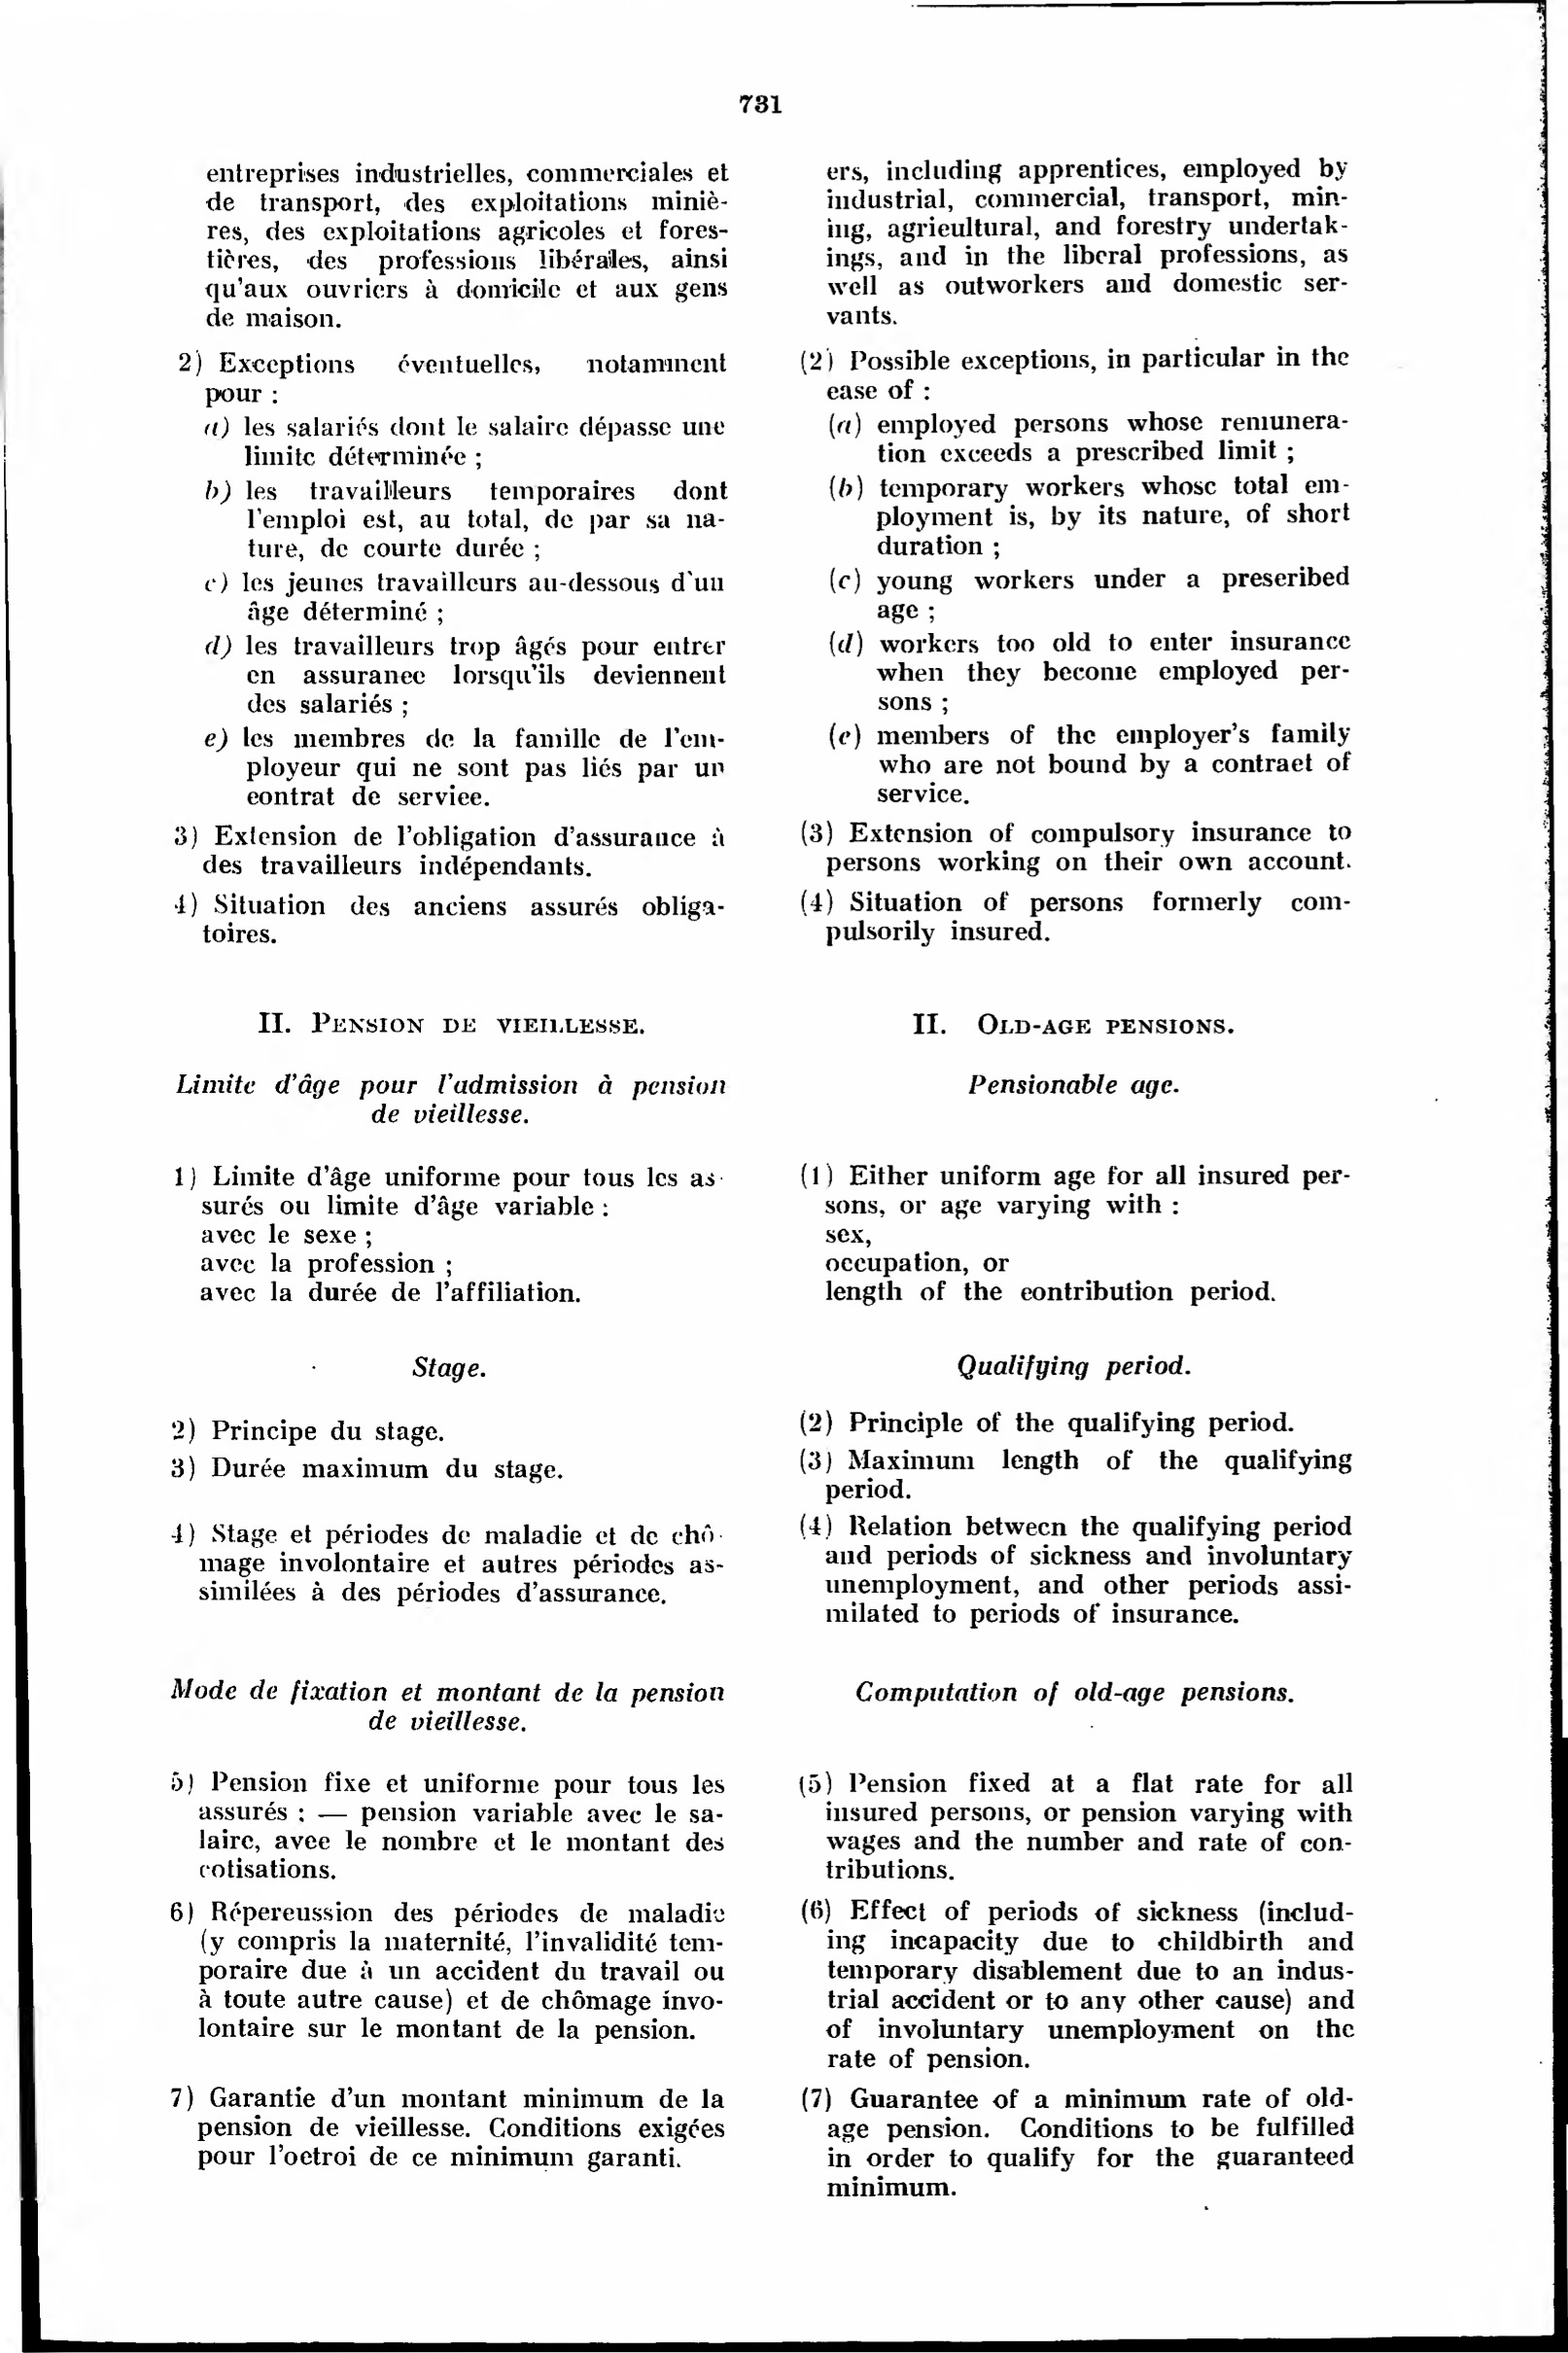MainZone-Continued: (808, 152, 1354, 334), (192, 155, 738, 336)
MainZone-Head: (160, 1668, 736, 1746), (167, 1064, 739, 1136), (842, 1664, 1303, 1719), (246, 997, 660, 1049), (896, 996, 1246, 1052), (948, 1341, 1201, 1391), (957, 1063, 1186, 1107), (403, 1342, 495, 1387)
MainZone-ListItem: (786, 1889, 1363, 2077), (786, 1151, 1354, 1316), (158, 1891, 739, 2048), (163, 1156, 736, 1308), (785, 1508, 1365, 1638), (791, 2079, 1365, 2209), (786, 1762, 1363, 1888), (158, 1763, 737, 1886), (158, 2076, 739, 2185), (160, 1512, 735, 1617), (185, 719, 738, 814), (803, 717, 1362, 809), (808, 627, 1359, 719), (809, 471, 1359, 562), (188, 629, 737, 720), (182, 474, 737, 564), (789, 883, 1361, 957), (164, 888, 737, 958), (165, 816, 737, 885), (791, 812, 1361, 881), (167, 343, 738, 411), (178, 408, 738, 474), (787, 1443, 1362, 1507), (810, 560, 1359, 627), (792, 341, 1356, 406), (188, 565, 738, 629), (807, 406, 1358, 468), (160, 1451, 615, 1497), (788, 1401, 1306, 1440), (157, 1410, 459, 1451)
TitlePageZone: (729, 82, 791, 129)
